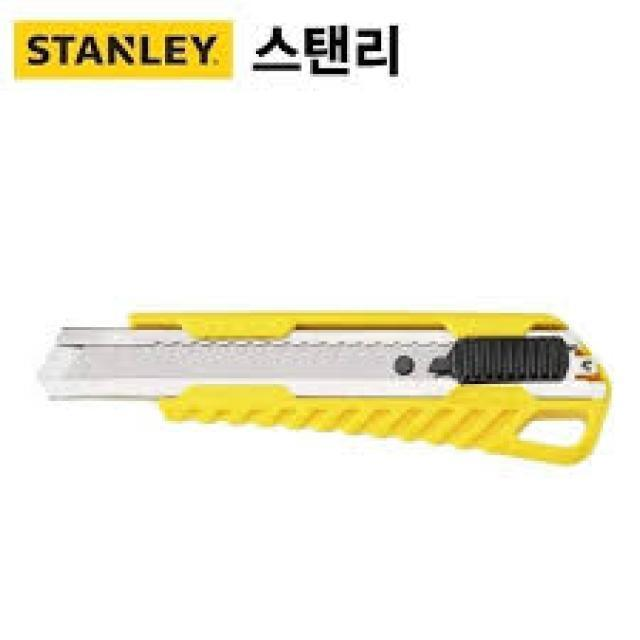cutter: (26, 300, 620, 477)
